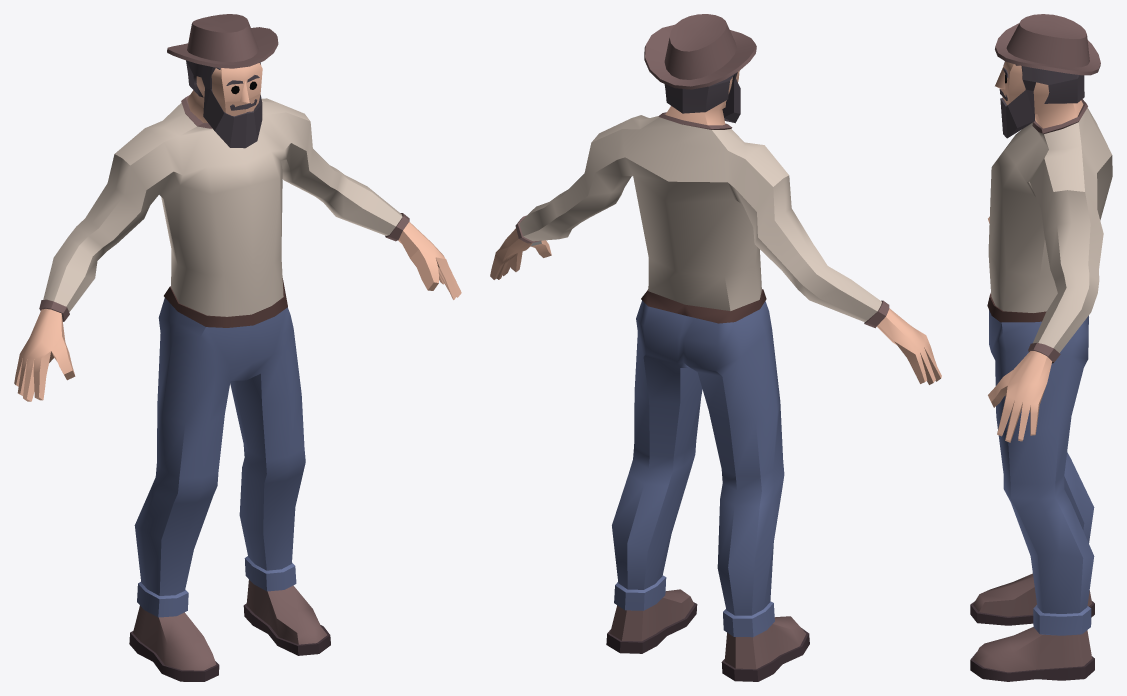
Rendered from LowPolyCharacter2.gltf.
3 views of the same model, side by side, from view 1: azimuth 30°, elevation 25°; view 2: azimuth 150°, elevation 25°; view 3: azimuth 270°, elevation 25° (orthographic).
Parts seen in each view (by area): view 1: LowPolyCharacter2; view 2: LowPolyCharacter2; view 3: LowPolyCharacter2.
Boxes of the visible parts, left/top/right/bottom form: LowPolyCharacter2: left=14, top=14, right=461, bottom=681; LowPolyCharacter2: left=490, top=14, right=941, bottom=681; LowPolyCharacter2: left=970, top=14, right=1112, bottom=681.
Size of the model in its own units: 139 by 188 by 39.22.
